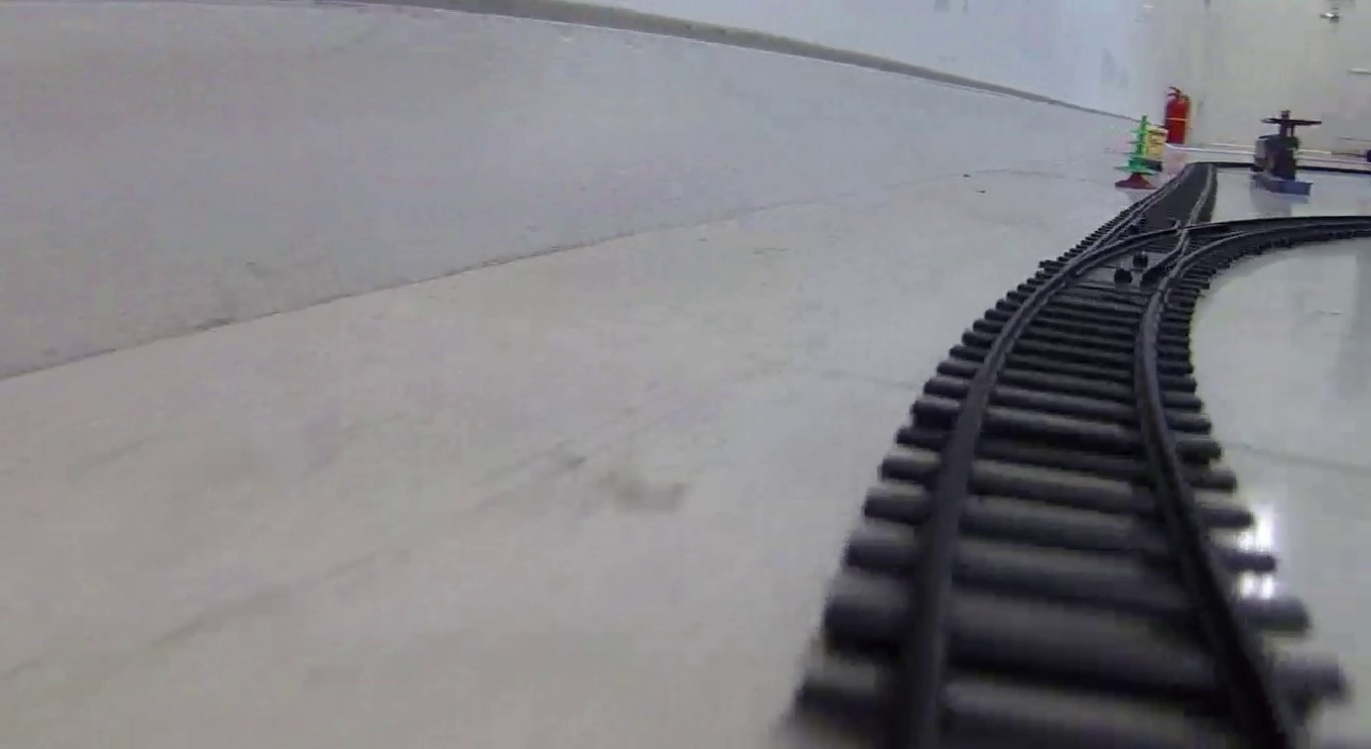tree: (1115, 117, 1159, 191)
